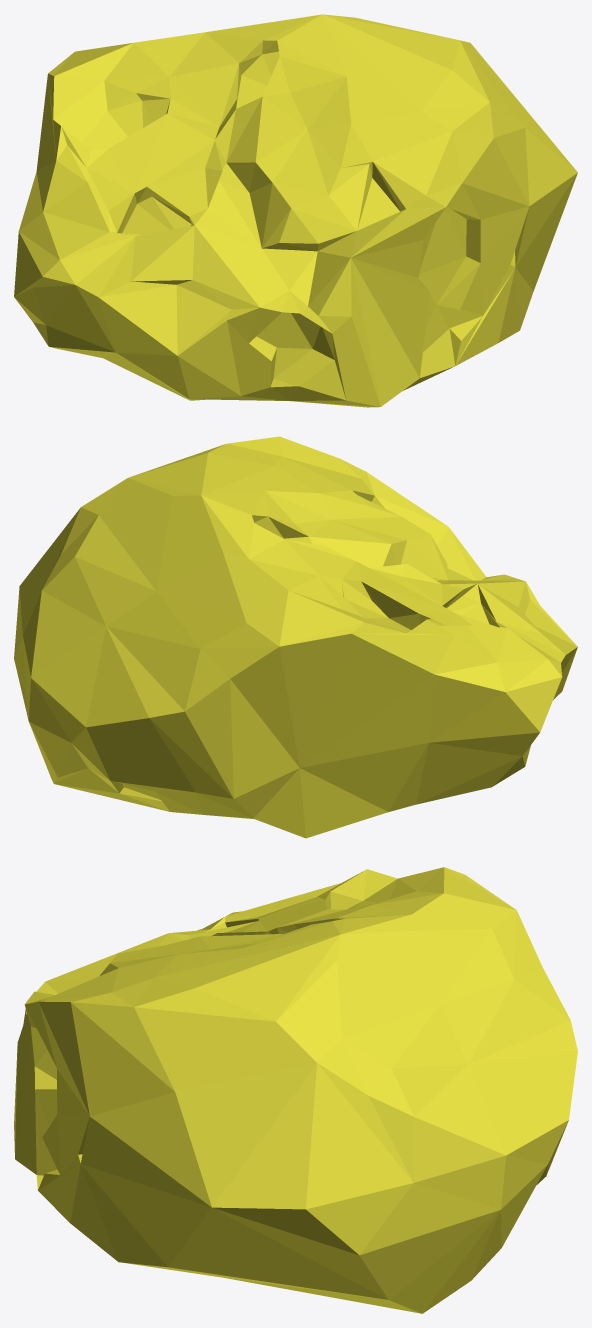
Rendered from meteor_yellow_bond_resin_01.glb.
3 views of the same model, one above another, from view 1: azimuth 30°, elevation 25°; view 2: azimuth 150°, elevation 25°; view 3: azimuth 270°, elevation 25° (orthographic). The views are drawn at different scales.
Visible parts, largest first — view 1: Mesh1.0; view 2: Mesh1.0; view 3: Mesh1.0.
Part boxes in pixels (x1=…): Mesh1.0: x1=14, y1=14, x2=577, y2=407; Mesh1.0: x1=14, y1=436, x2=577, y2=838; Mesh1.0: x1=14, y1=867, x2=577, y2=1313.
Size of the model in its own units: 1.91 by 1.02 by 1.63.
